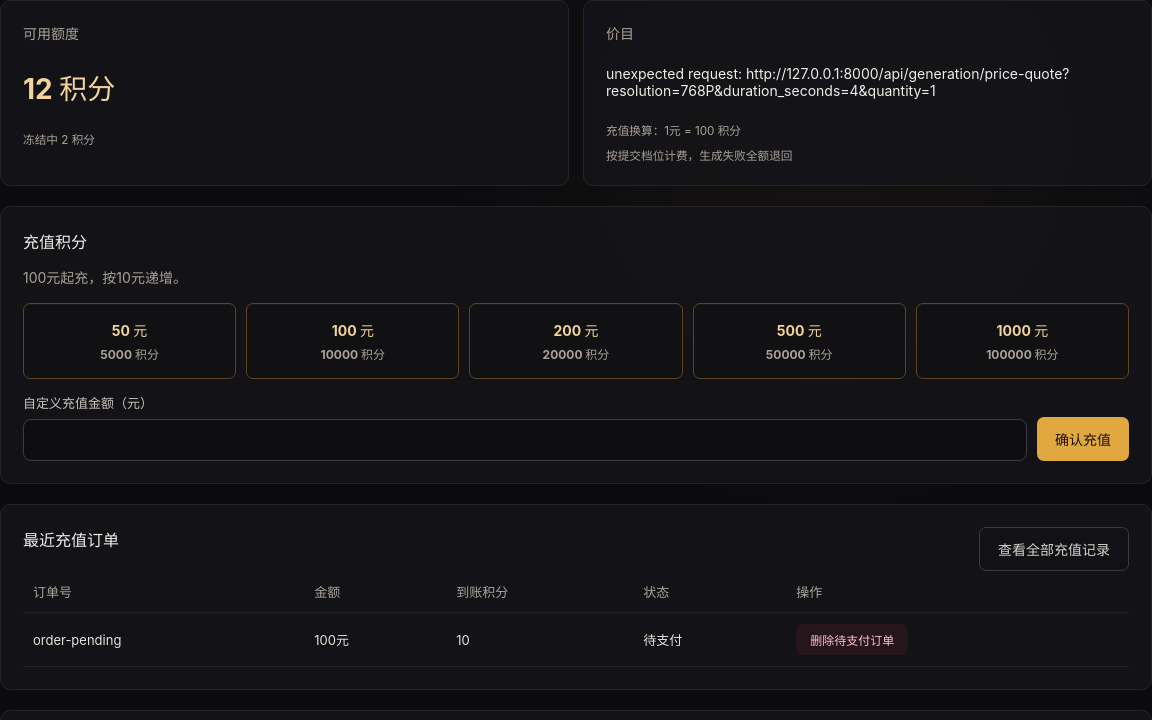
CustomerWalletPanel › deletes an unpaid order from the visible list after closing it
This screenshot has width=1152, height=720.
expect the text "order-pending" is shown: met, box [23, 612, 304, 666]
Click the button "删除待支付订单" at (852, 640), box [796, 624, 908, 655]
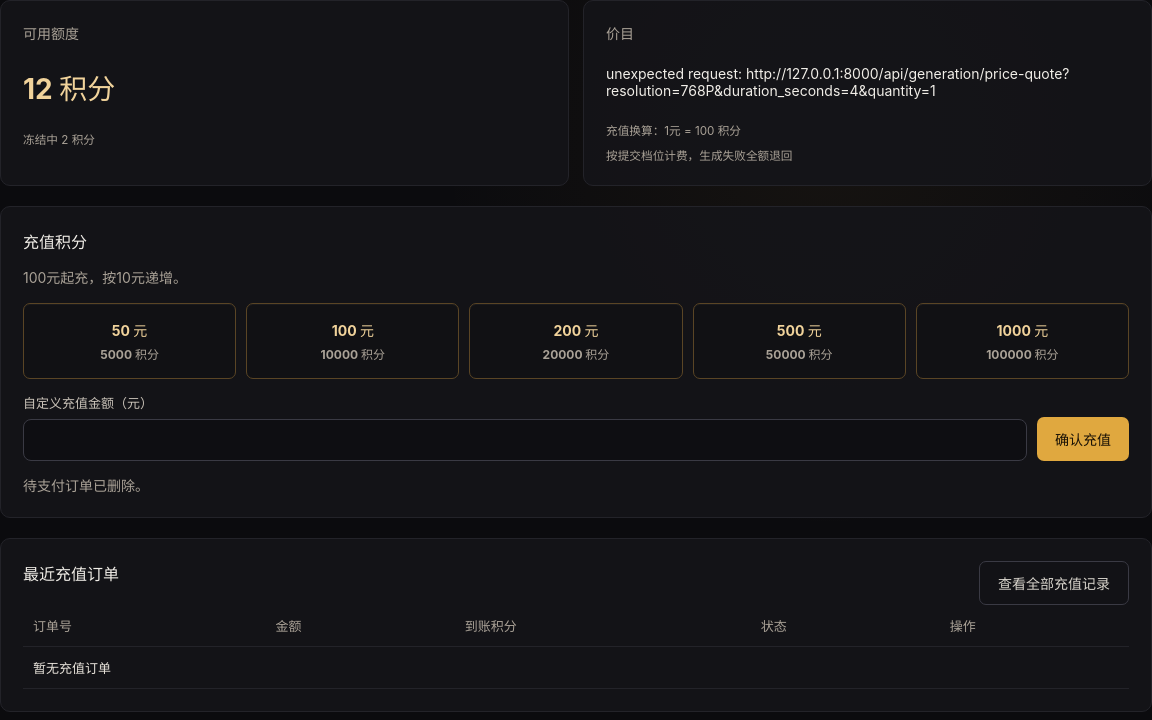
expect the text "order-pending" is gone: met
